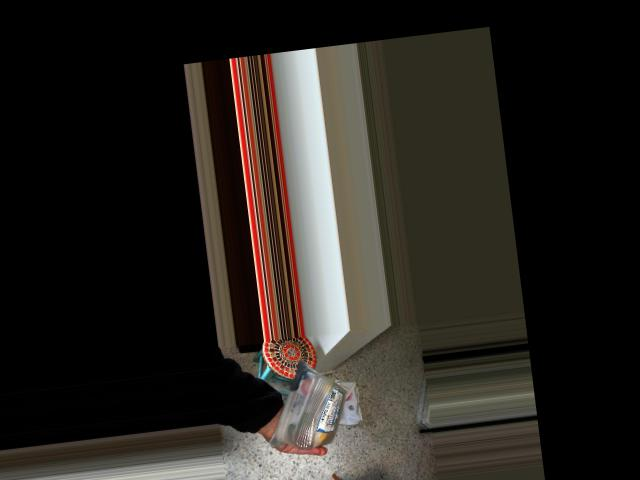cheese: (277, 383, 372, 433)
